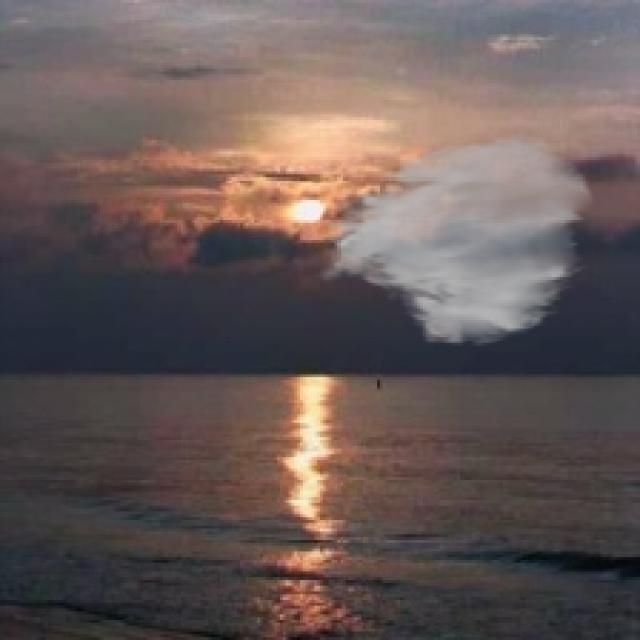smoke: (314, 134, 597, 349)
